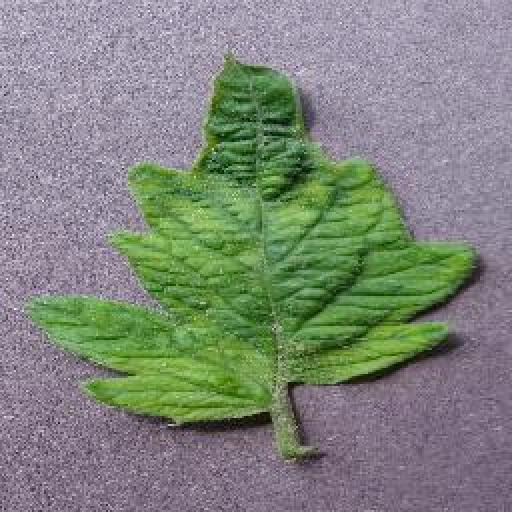disease_tomato: (20, 48, 474, 424)
